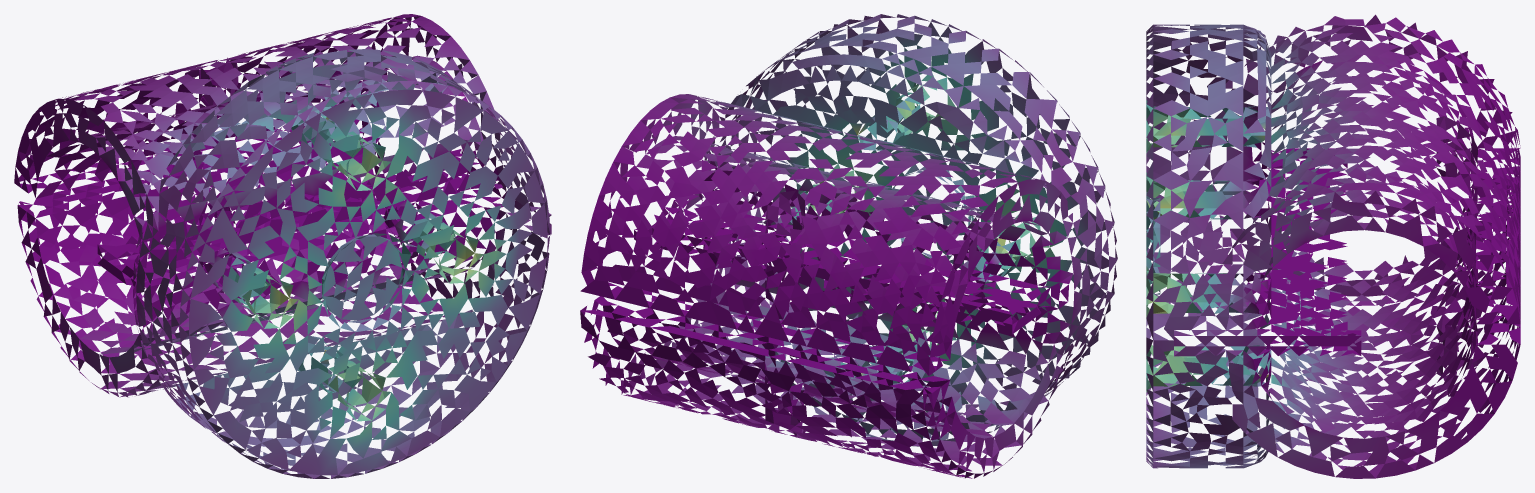
The model's file is mount_max_thrust.glb.
3 renders of one model, left to right at view 1: azimuth 30°, elevation 25°; view 2: azimuth 150°, elevation 25°; view 3: azimuth 270°, elevation 25°, orthographic. The views are drawn at different scales.
Visible parts, largest first — view 1: geometry_0; view 2: geometry_0; view 3: geometry_0.
Boxes of the visible parts, x1,y1,x2,y2 form: geometry_0: (14, 14, 551, 478); geometry_0: (580, 14, 1117, 478); geometry_0: (1146, 14, 1520, 478).
Size of the model in its own units: 33 by 32 by 26.97.
